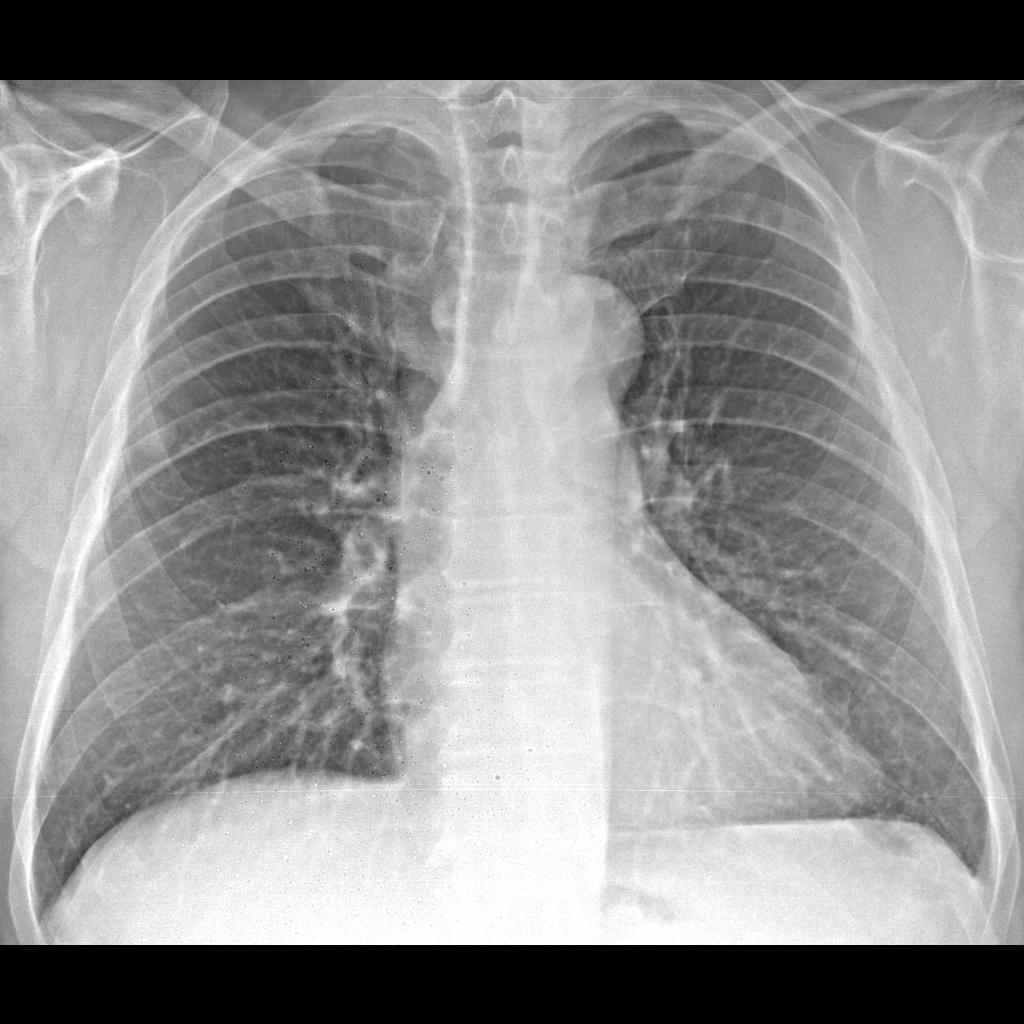Nodule: (128, 395, 189, 463)
